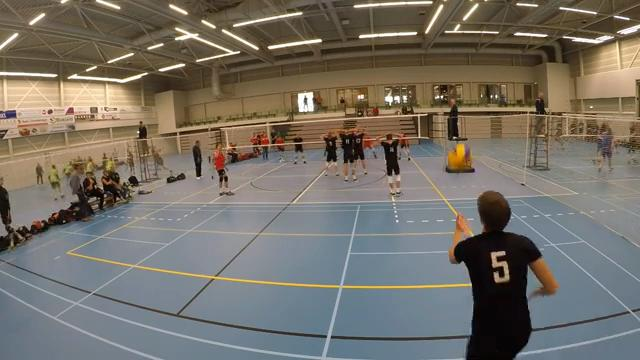Player: (378, 134, 402, 195), (213, 144, 233, 195), (338, 129, 357, 181), (322, 132, 338, 175), (354, 128, 366, 174), (293, 135, 305, 163), (363, 133, 376, 158), (398, 133, 410, 160), (274, 134, 284, 162)
Serve: (444, 186, 560, 359)
ball: (445, 141, 474, 173)
